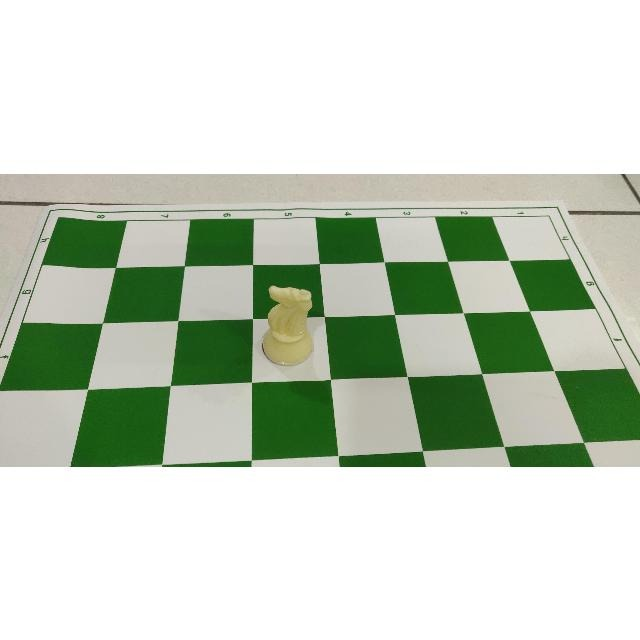white-knight: (263, 284, 313, 366)
